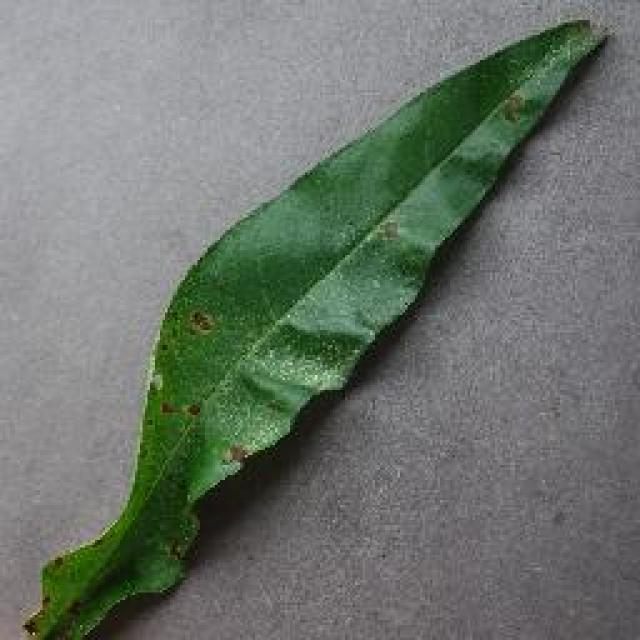Peach_Bacterial_Spot: (110, 258, 308, 472)
